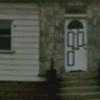stairs: (58, 73, 100, 100)
